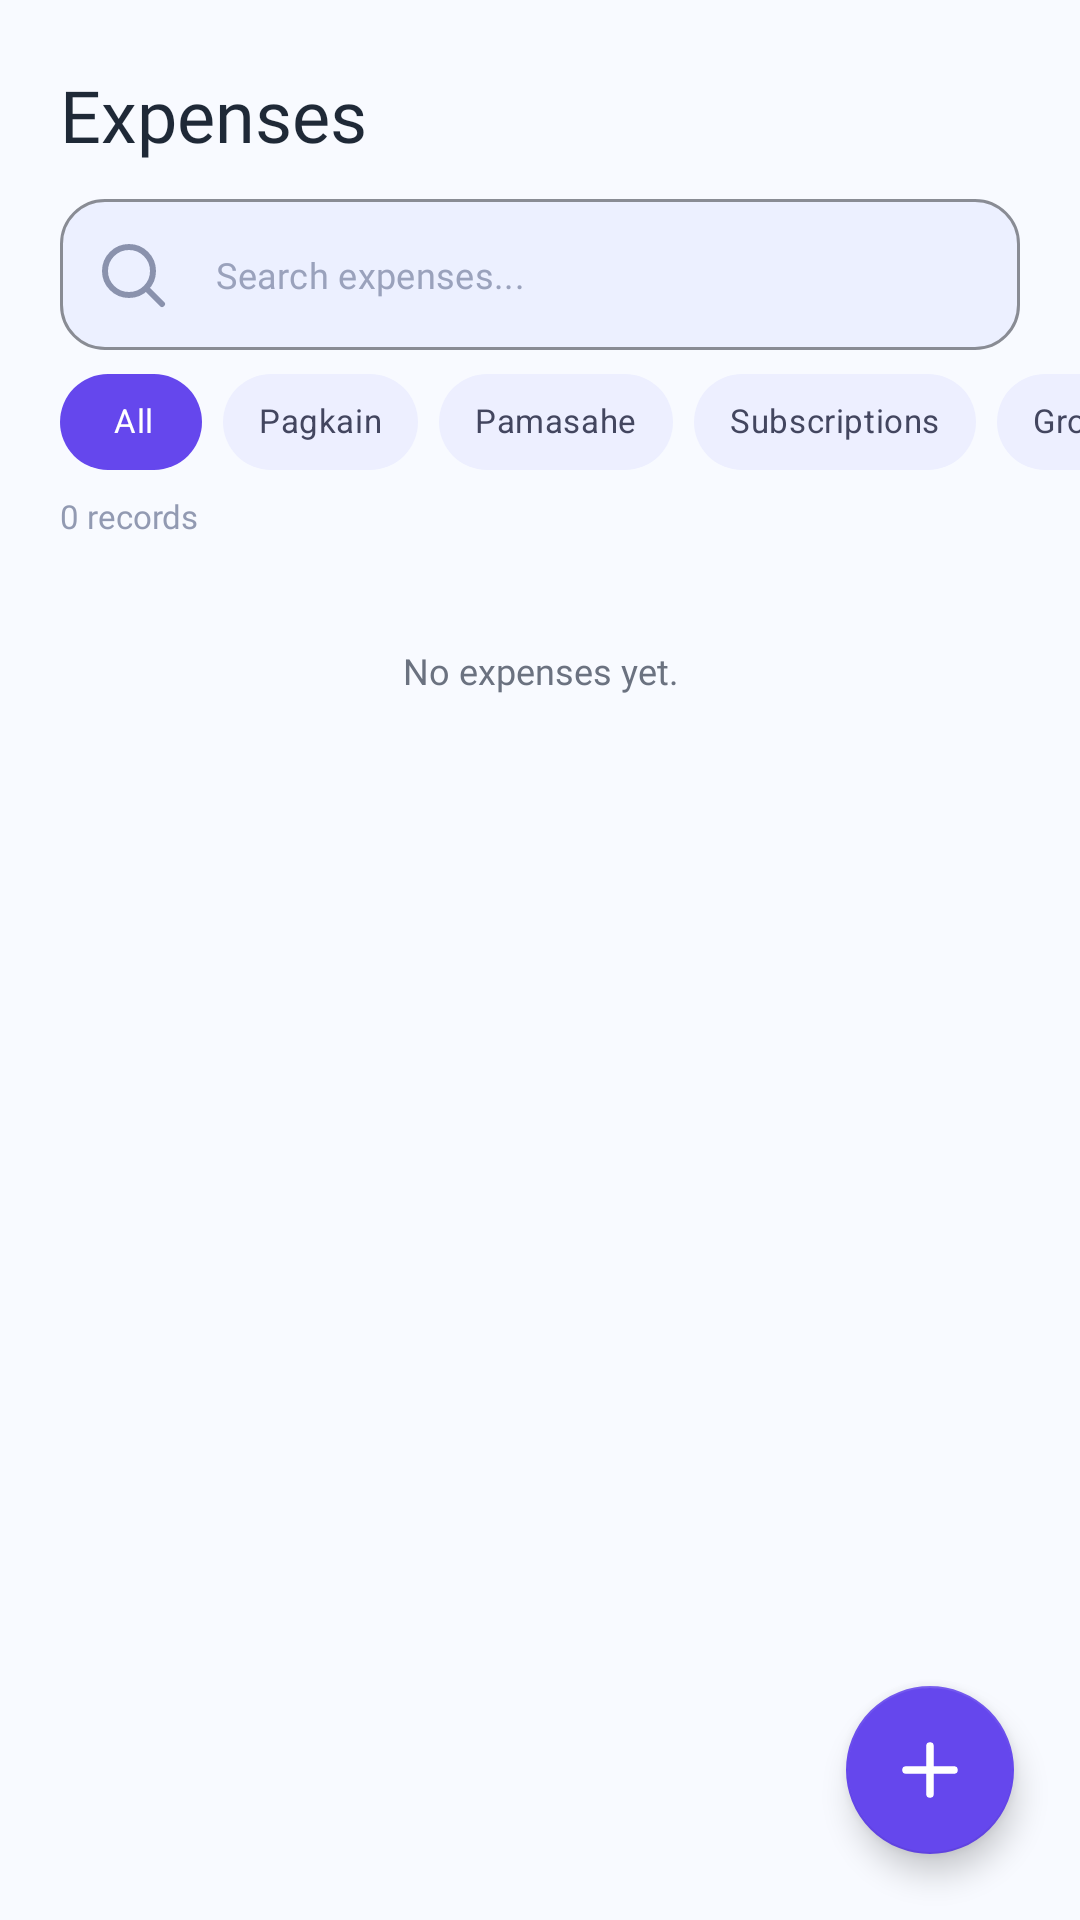

Locate icon controls on the screen. Image size 1080*1920, boxes as (x1, y1, x2, y2).
Add Expense: (846, 1686, 1014, 1854)
